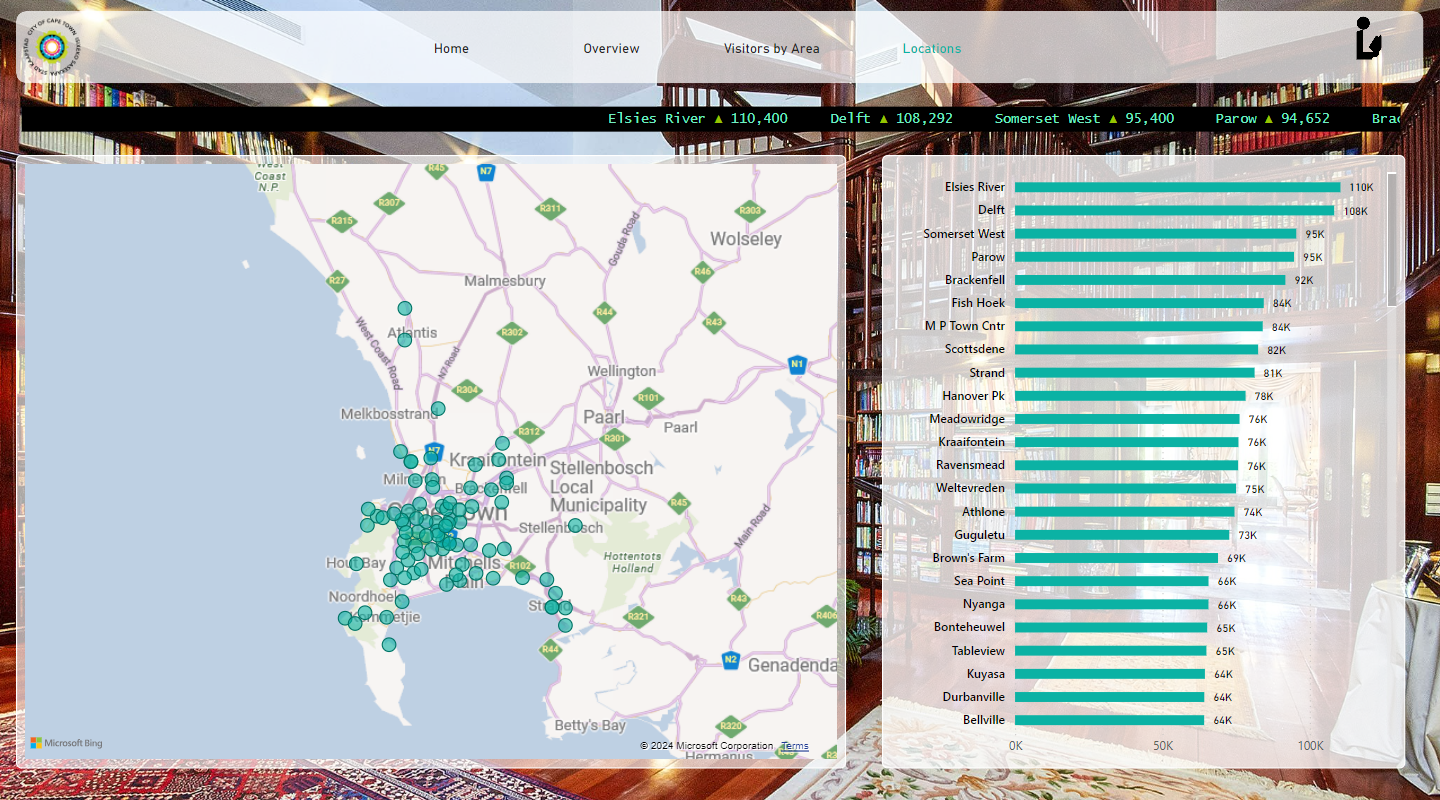

Layout of this report page (visuals, bound fields, positions):
{"tool":"powerbi","page":{"name":"Locations","canvas":[1280,720],"ordinal":3},"visuals":[{"type":"shape","box":[16,16,1248,64],"z":0,"group":"g1"},{"type":"map","fields":{"Category":["Table1.AREA"]},"box":[16,144,736,544],"z":0},{"type":"image","box":[16,16,64,64],"z":1000,"group":"g1"},{"type":"clusteredBarChart","fields":{"Y":["Sum(Table1.Value)"],"Category":["Table1.AREA"]},"box":[784,144,464,544],"z":1000},{"type":"image","box":[1200,16,32,48],"z":2000,"group":"g1"},{"type":"group","id":"g1","title":"Group 1","box":[16,16,1248,64],"z":2000},{"type":"ScrollingTextVisual1448795304508","fields":{"Category":["Table1.AREA"],"Measure Deviation":["Sum(Table1.Value)"]},"box":[16,96,1232,32],"z":3000},{"type":"pageNavigator","box":[336,32,560,32],"z":4001,"group":"g1"}]}

Visuals, with their boxes in screenshot pixels (x1, y1, x2, y2):
shape: Rect(7, 7, 1422, 79)
map - Table1.AREA: Rect(7, 152, 842, 769)
image: Rect(7, 7, 80, 79)
clusteredBarChart - Sum(Table1.Value) x Table1.AREA: Rect(878, 152, 1404, 769)
image: Rect(1350, 7, 1386, 61)
"Group 1" group: Rect(7, 7, 1422, 79)
ScrollingTextVisual1448795304508 - Table1.AREA x Sum(Table1.Value): Rect(7, 98, 1404, 134)
pageNavigator: Rect(370, 25, 1005, 61)
